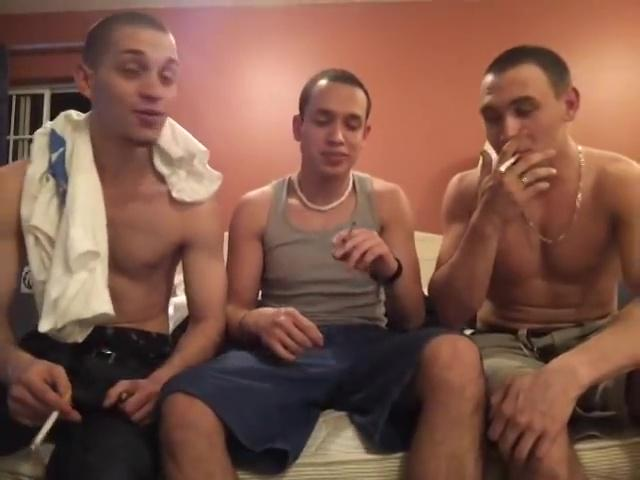cigarette: (27, 387, 73, 454), (496, 153, 525, 174), (341, 223, 358, 243)
